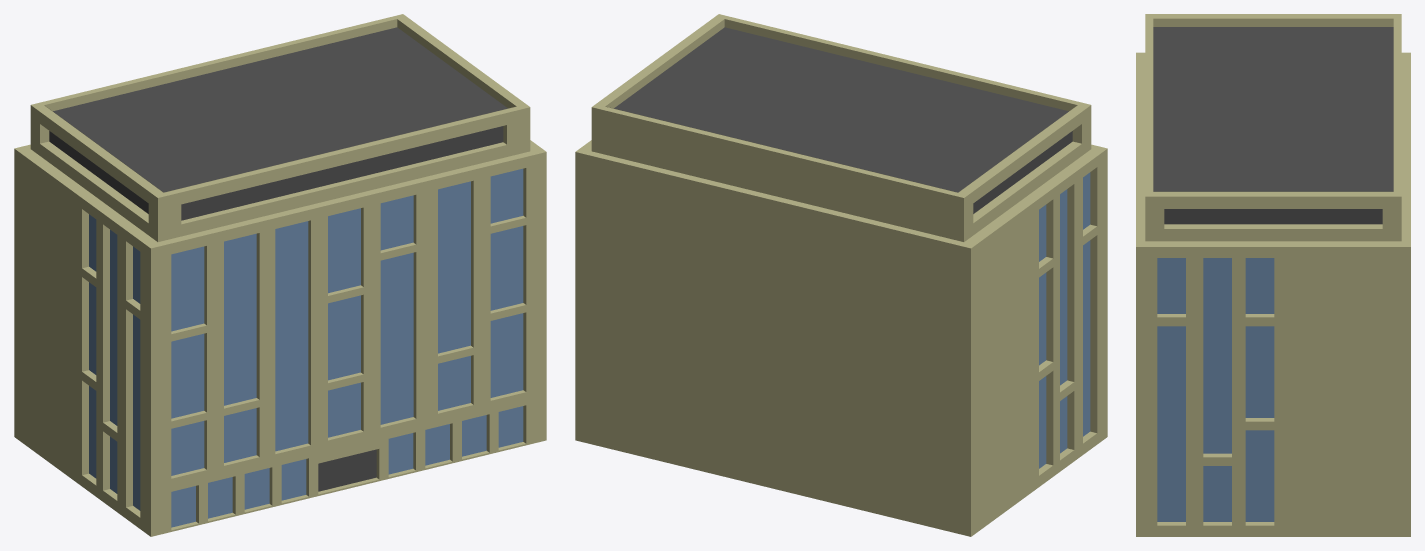
The model's file is Building_Yellow.fbx.
The picture shows the model from 3 angles, left to right: view 1: azimuth 30°, elevation 25°; view 2: azimuth 150°, elevation 25°; view 3: azimuth 270°, elevation 25°; orthographic projection.
Parts seen in each view (by area): view 1: Building_Yellow; view 2: Building_Yellow; view 3: Building_Yellow.
Boxes of the visible parts, bbox=[...] form: Building_Yellow: bbox=[14, 14, 546, 536]; Building_Yellow: bbox=[575, 14, 1107, 536]; Building_Yellow: bbox=[1136, 14, 1410, 536].
Bounding box in the file's own units: 5 × 4.02 × 2.99.
